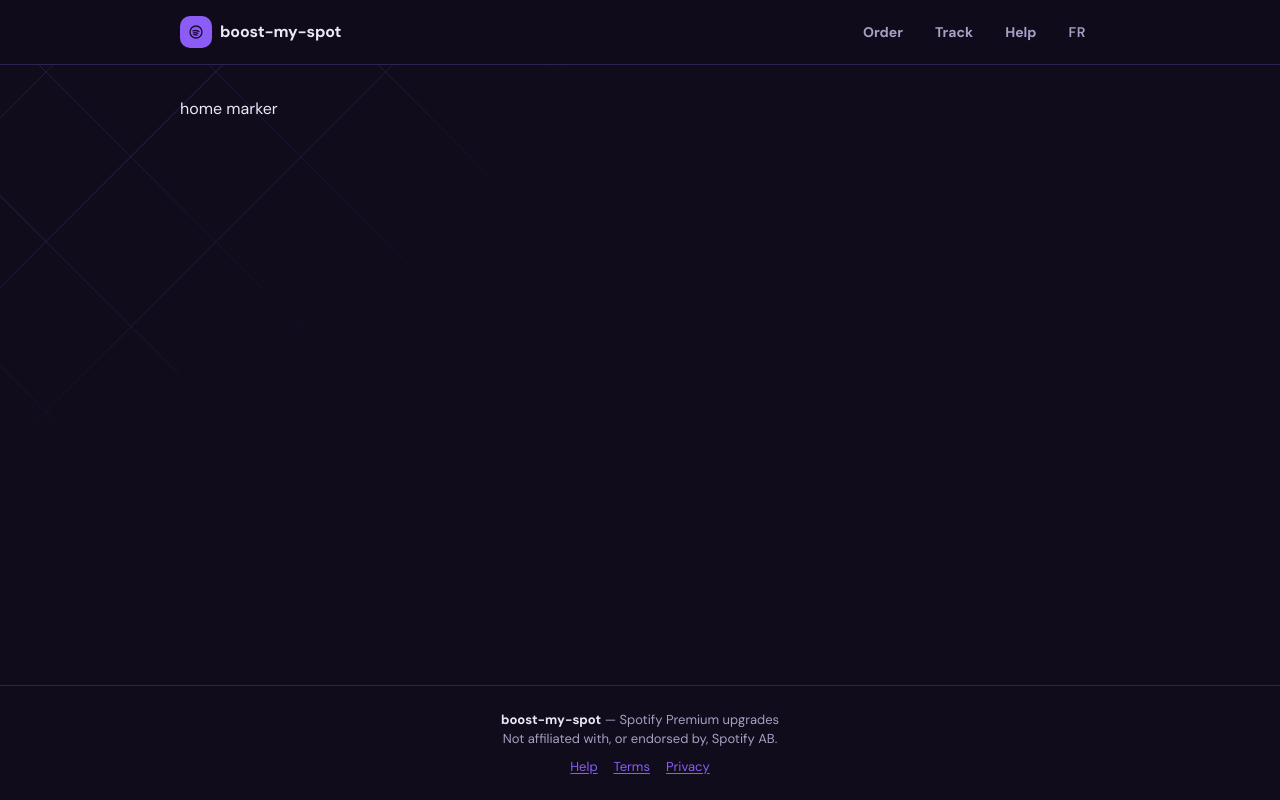
Test: Layout › switches the language
The width and height of the screenshot is (1280, 800).
Click the button with aria-label "Read this site in Français" at (1077, 32), box left=1054, top=14, right=1100, bottom=50
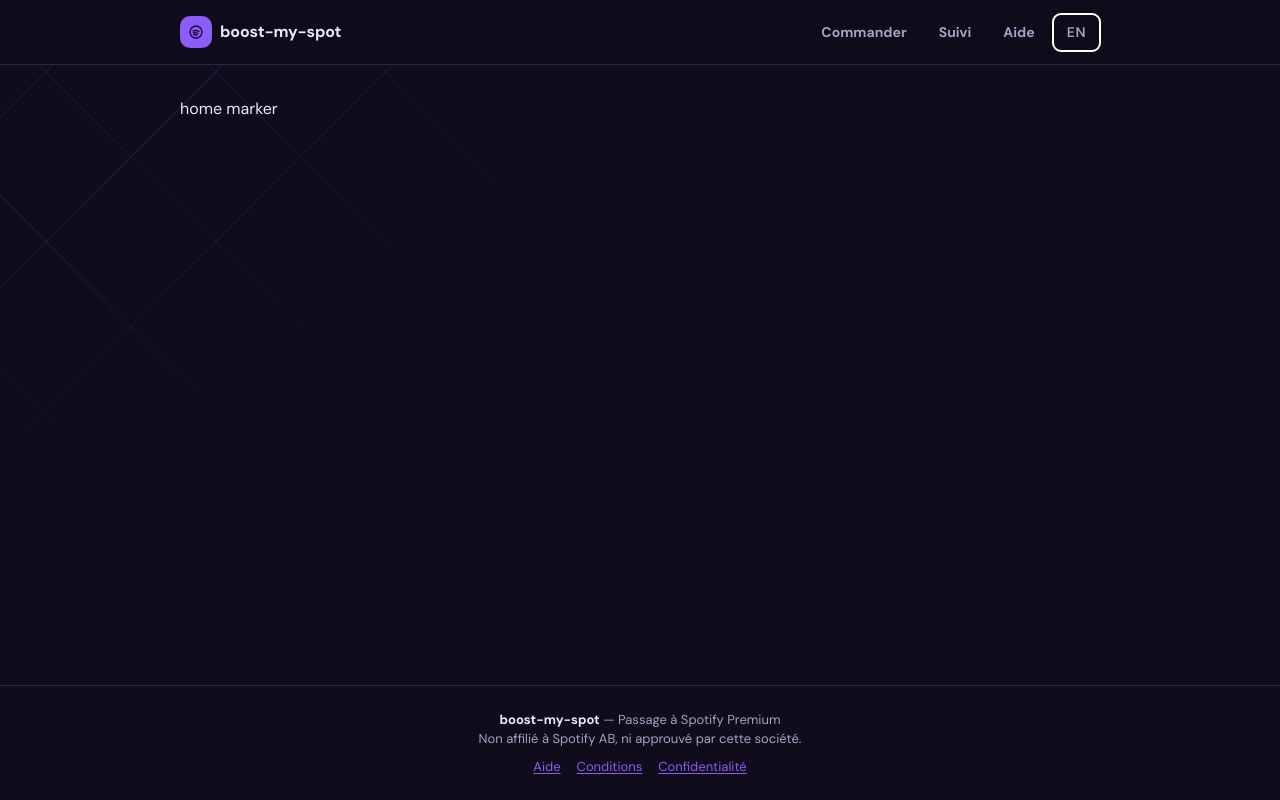
Expected: the button with aria-label "English" reads "EN", left=1053, top=14, right=1100, bottom=50
